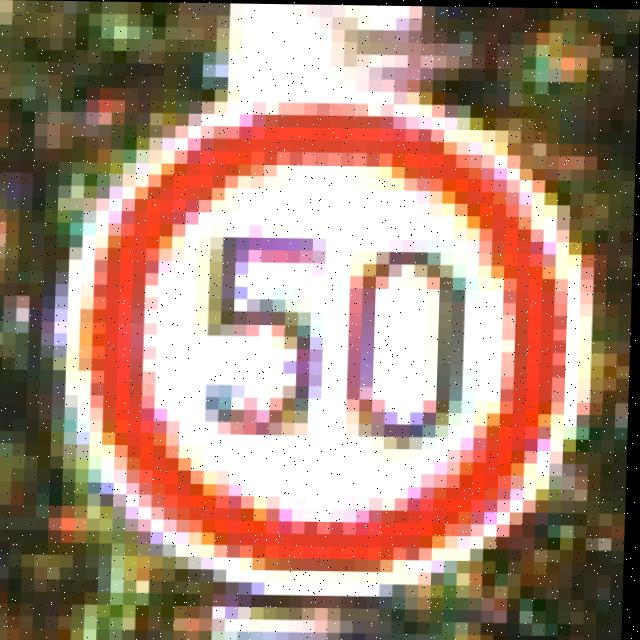speed_limit_50: (87, 107, 592, 569)
